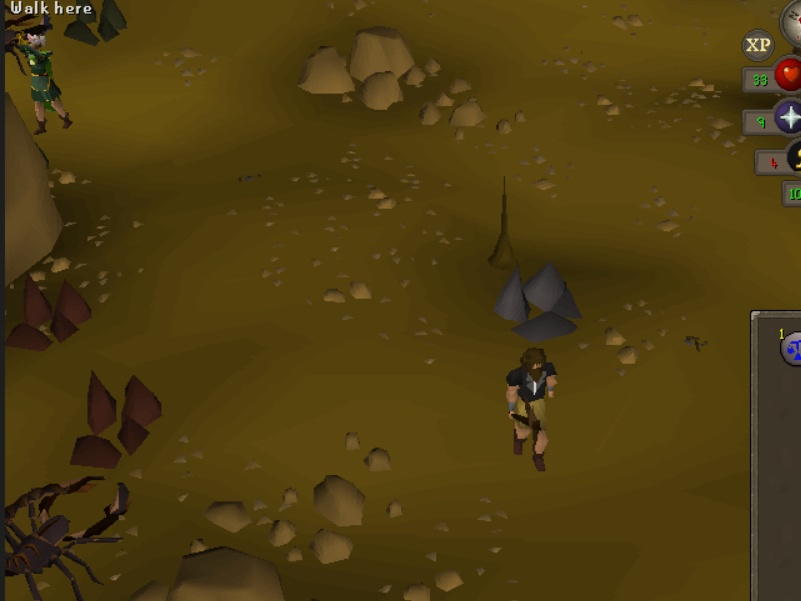coal: (63, 1, 132, 51)
iron: (70, 368, 168, 476), (1, 262, 98, 355)
